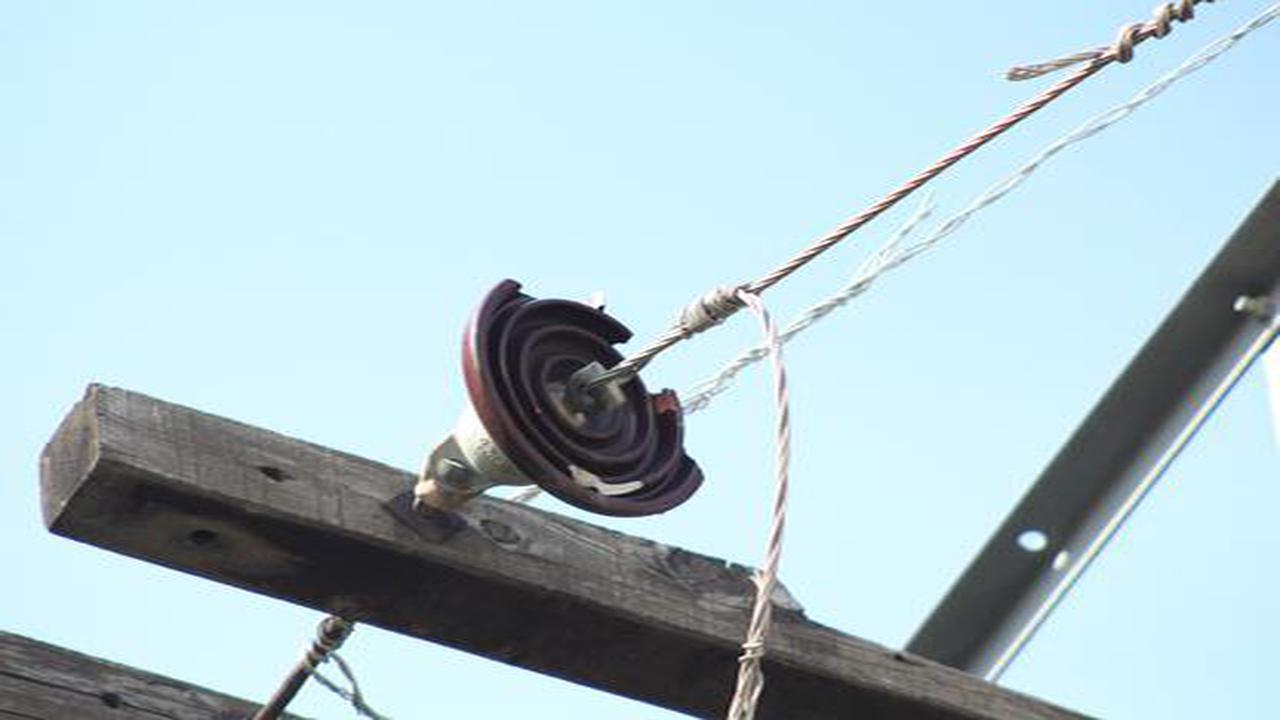defect_disc: (427, 270, 713, 534)
